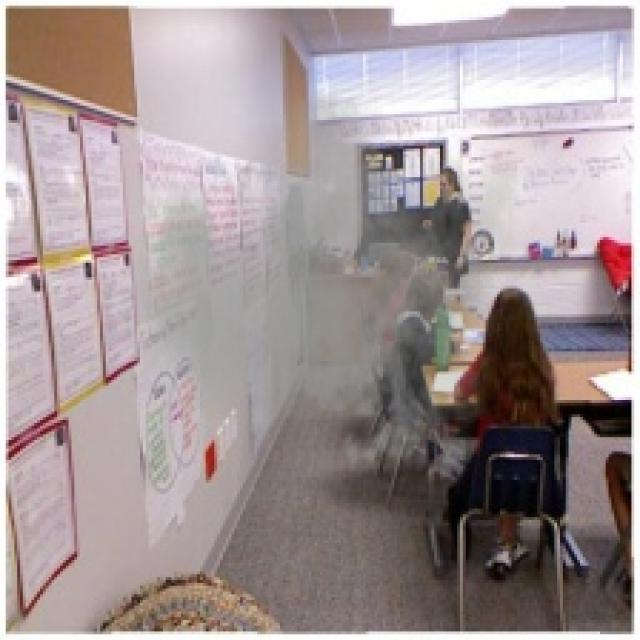Smoke: (131, 74, 520, 494)
